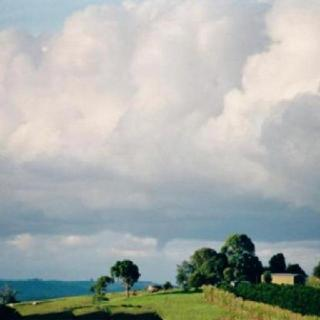Cumulus: (0, 0, 320, 278)
